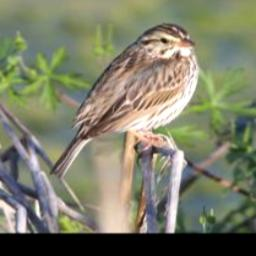Sparrow: (49, 22, 201, 179)
